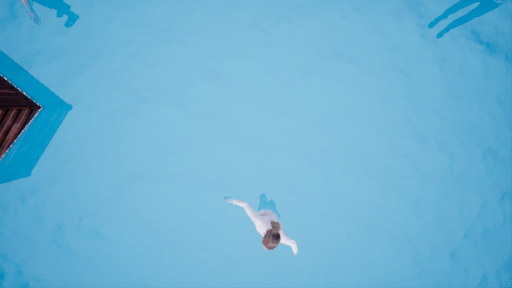person: (208, 185, 307, 264)
